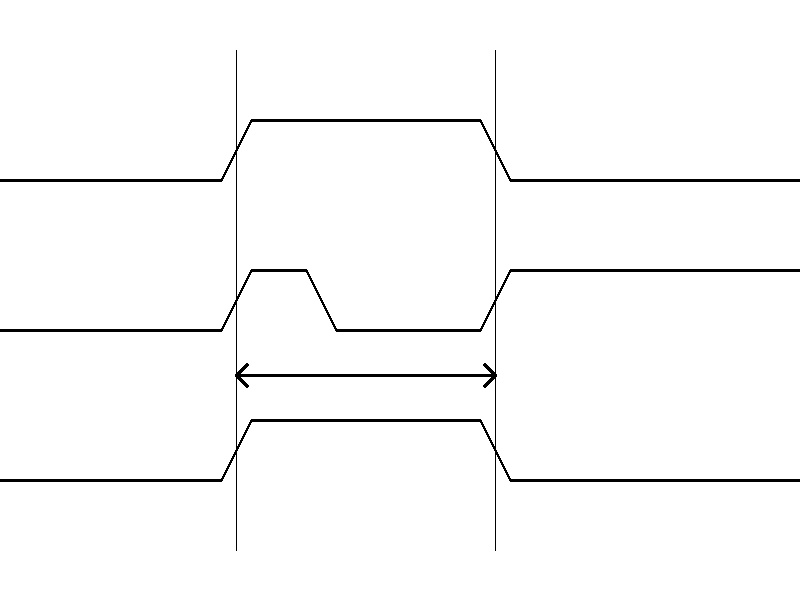double_arrow: (236, 360, 495, 390)
